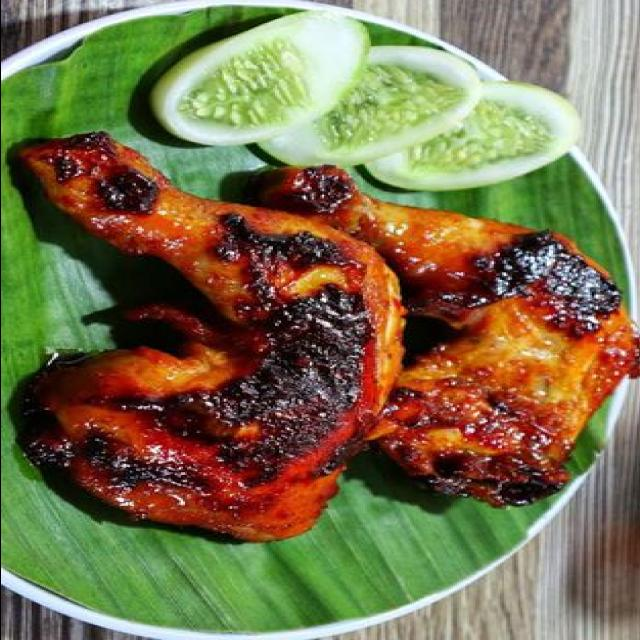ayam bakar: (6, 131, 403, 543), (299, 173, 640, 509)
